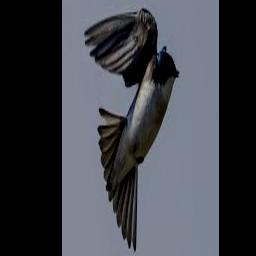Swallow: (84, 8, 179, 250)
